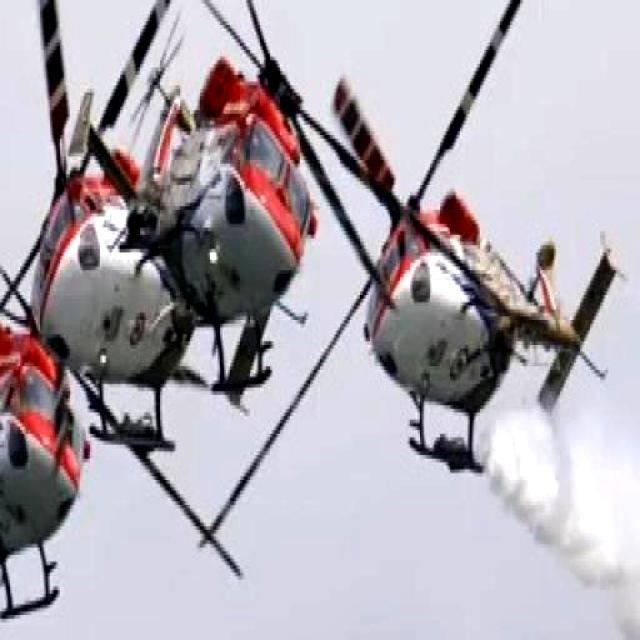drone: (349, 0, 626, 478), (146, 0, 326, 392), (25, 0, 174, 445), (0, 205, 85, 635)
